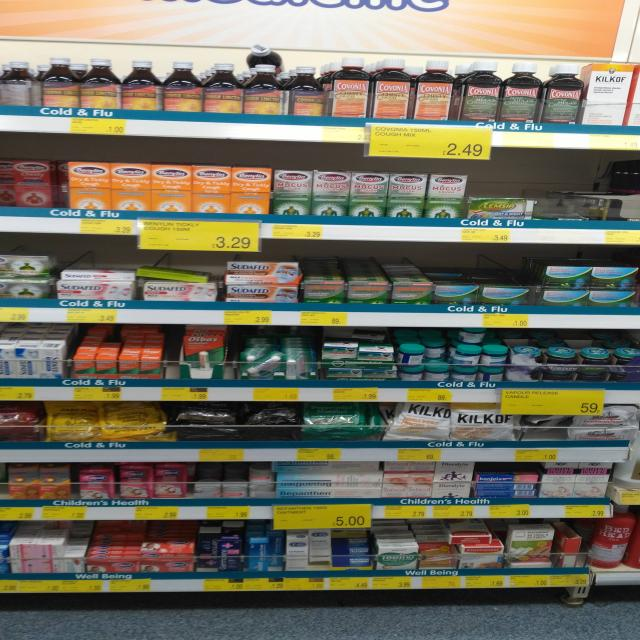unorganised: (399, 330, 509, 381), (1, 140, 64, 209), (378, 401, 452, 442), (282, 58, 324, 114), (1, 57, 43, 107), (270, 458, 382, 474), (519, 405, 570, 440), (321, 340, 395, 364), (448, 518, 494, 548), (243, 40, 287, 70), (135, 268, 208, 282), (140, 539, 195, 557), (307, 526, 331, 566)
